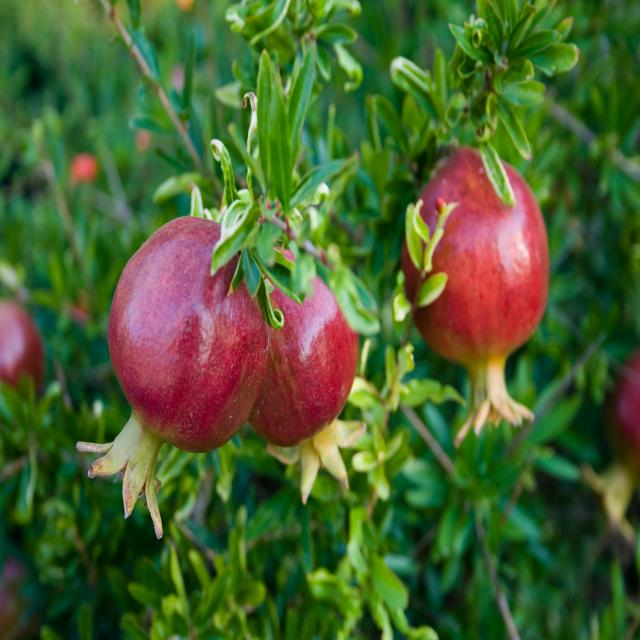apple: (79, 215, 268, 539), (399, 143, 569, 438), (255, 247, 367, 465)
